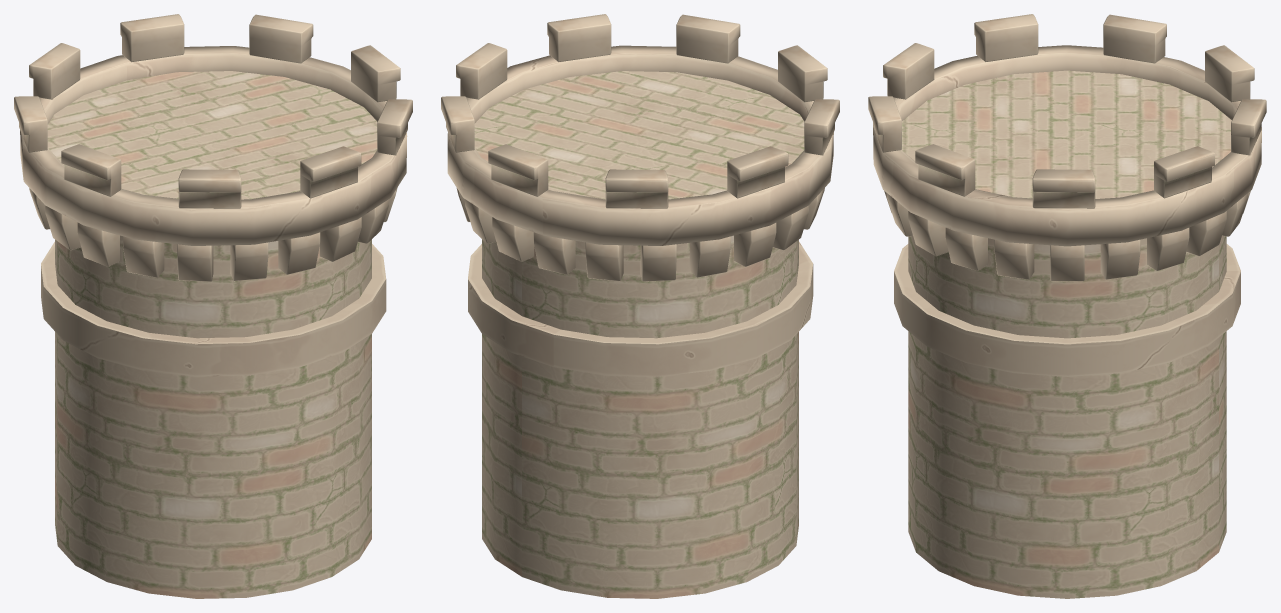
File: Main.fbx
The picture shows the model from 3 angles, left to right: view 1: azimuth 30°, elevation 25°; view 2: azimuth 150°, elevation 25°; view 3: azimuth 270°, elevation 25°; orthographic projection.
Parts seen in each view (by area): view 1: Cylinder001, Shape001, Brick_01_low, Plane001; view 2: Cylinder001, Shape001, Brick_01_low, Plane001; view 3: Cylinder001, Shape001, Brick_01_low, Plane001.
Part boxes in pixels (x1,y1,x2,y2): Cylinder001: (55,235,371,598); Shape001: (20,46,407,376); Brick_01_low: (14,14,412,281); Plane001: (47,71,377,199); Cylinder001: (482,235,798,598); Shape001: (447,45,833,376); Brick_01_low: (441,14,839,281); Plane001: (474,71,804,199); Cylinder001: (908,236,1226,598); Shape001: (873,45,1261,376); Brick_01_low: (868,14,1266,281); Plane001: (902,70,1231,198).
Size of the model in its own units: 8112 by 9894 by 8210.
